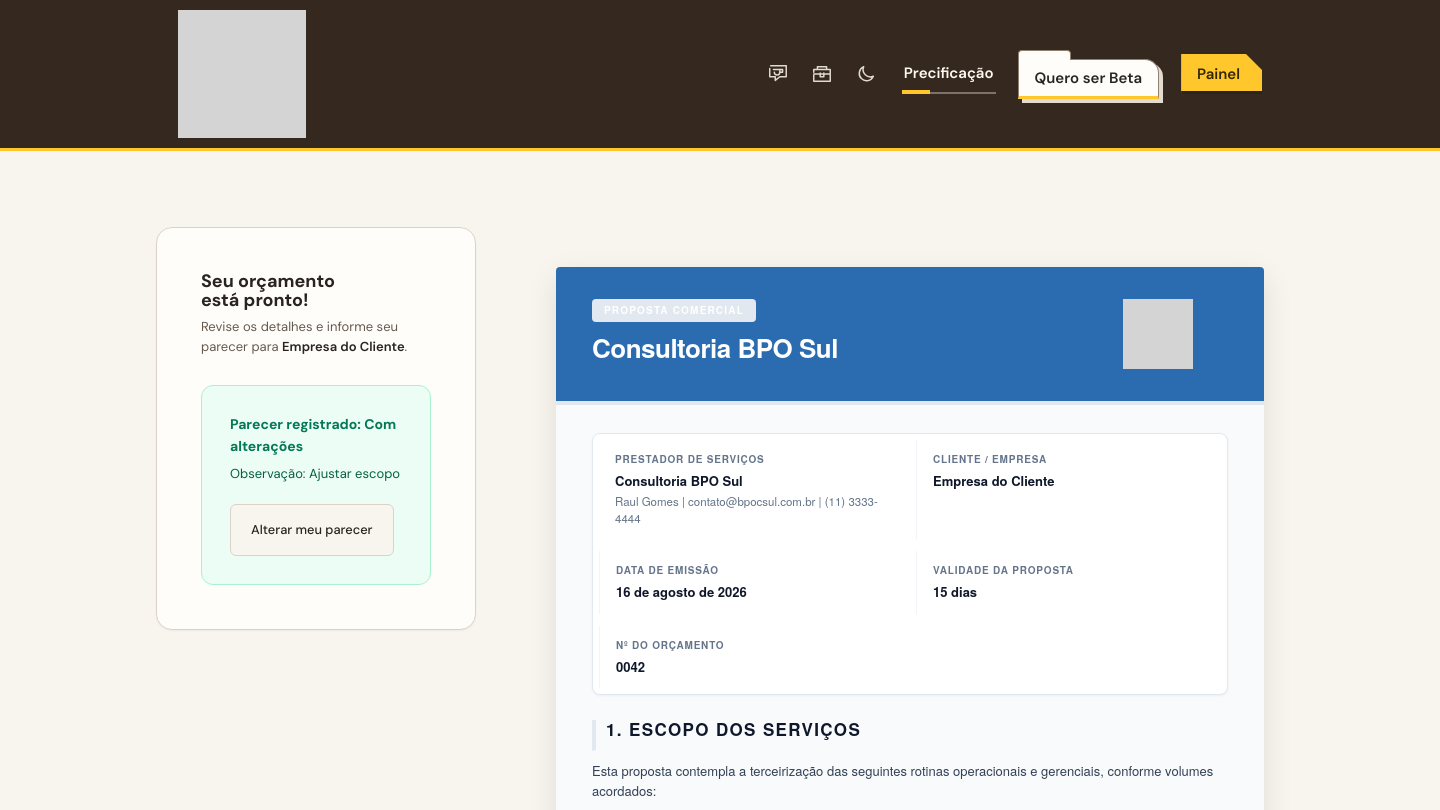
PublicProposalPage › lets the client change a previously submitted decision
Expected: the heading "Seu orçamento está pronto!" is shown, [201,269,335,312]
Expected: the text "Parecer registrado: Com alterações" is shown, [230,414,402,458]
Click the button "Alterar meu parecer" at (312, 530), box [230,504,394,556]
(page scrolled)
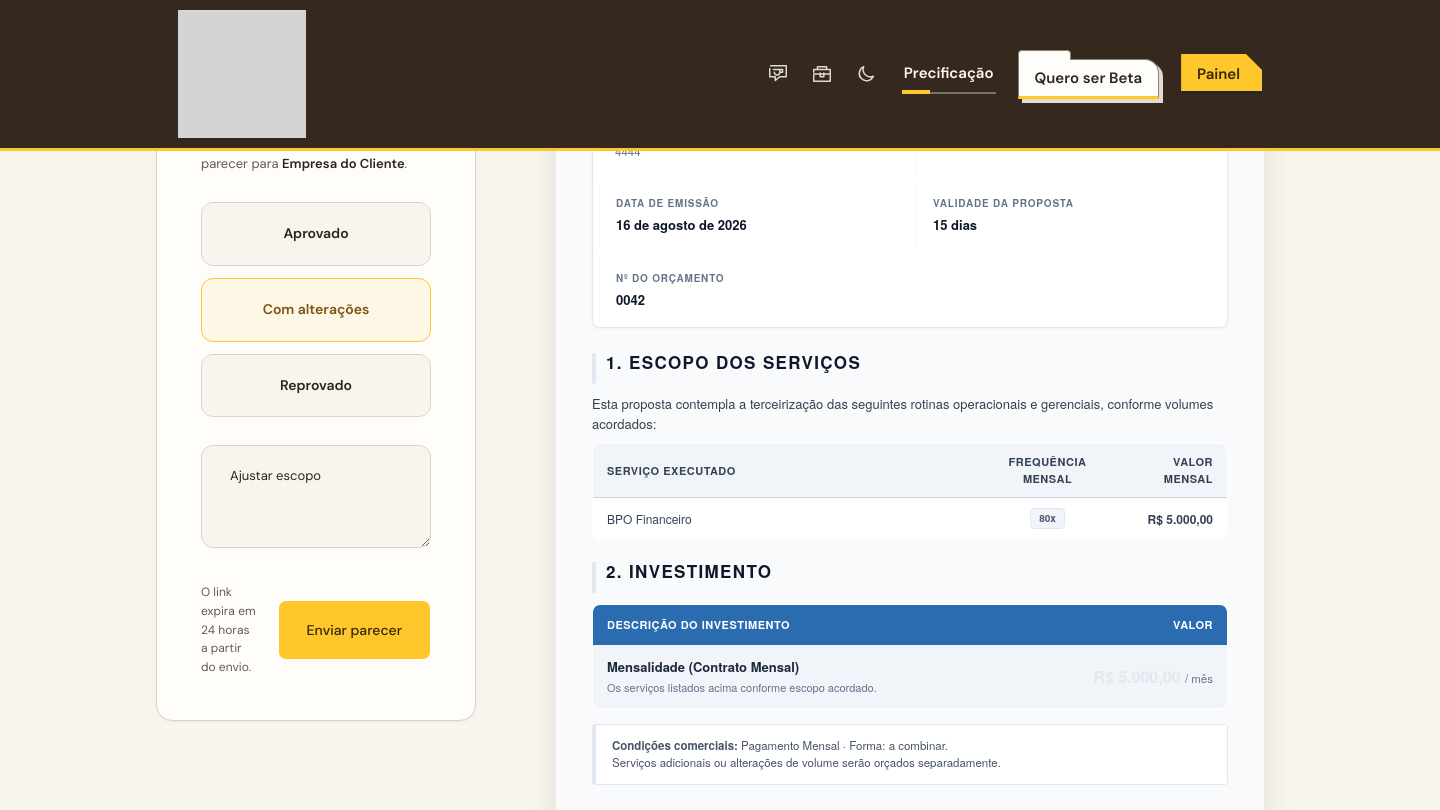
Expected: the button "Enviar parecer" is shown, [278,600,431,660]
